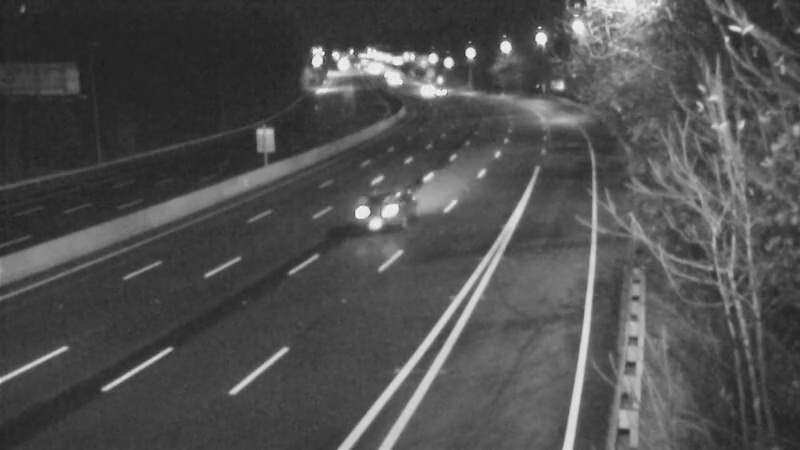vehicle: (335, 177, 415, 257), (392, 61, 442, 111), (415, 69, 465, 119)
